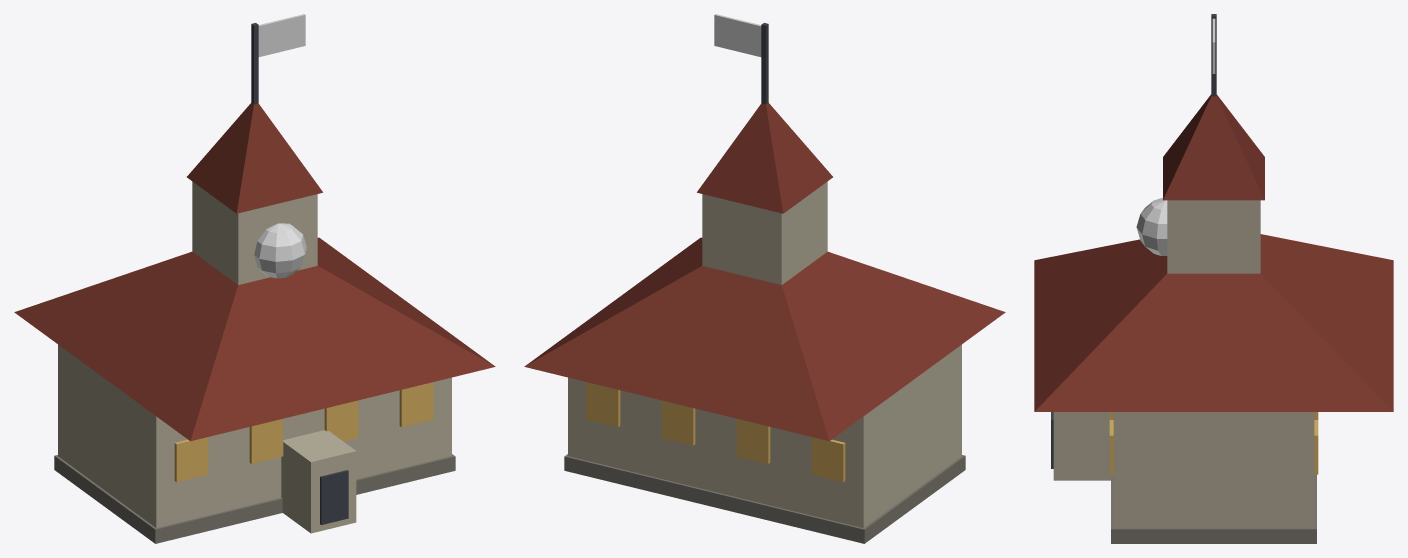
Rendered from school.fbx.
The picture shows the model from 3 angles, left to right: view 1: azimuth 30°, elevation 25°; view 2: azimuth 150°, elevation 25°; view 3: azimuth 270°, elevation 25°; orthographic projection.
Visible parts, largest first — view 1: school; view 2: school; view 3: school.
Boxes of the visible parts, x1,y1,x2,y2 form: school: (14, 14, 495, 543); school: (524, 14, 1005, 543); school: (1034, 14, 1393, 543).
Size of the model in its own units: 1.34 by 1.87 by 1.34.
